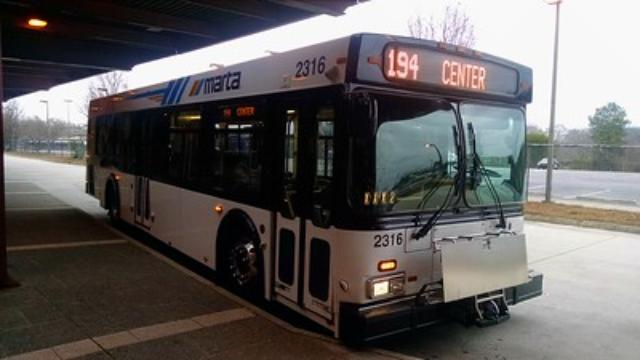bus: (83, 32, 542, 344)
